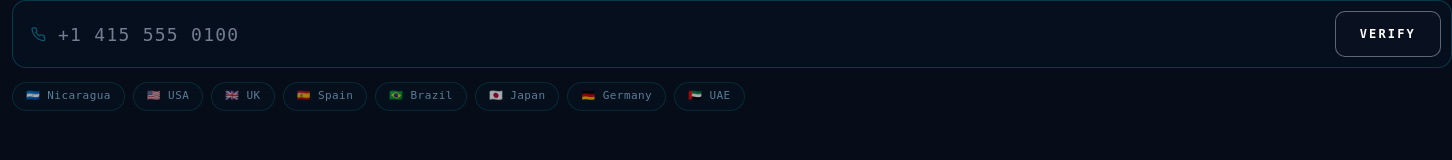
Test case: PhoneInput — quick example chips › fills the input with the example number when a chip is clicked
This screenshot has width=1452, height=160.
Click the button "🇺🇸 USA" at (168,96), box [133,82,203,110]
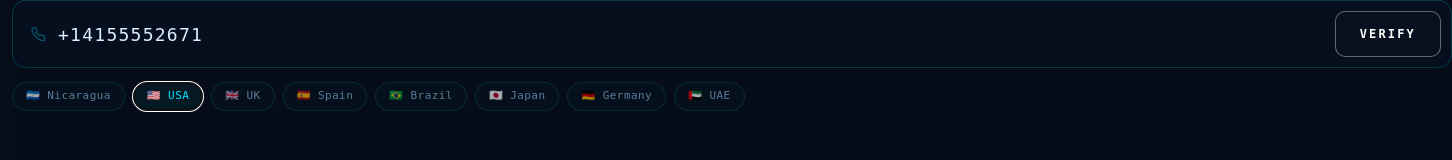
Result: the field holds "+14155552671" at [58,20,1335,48]
